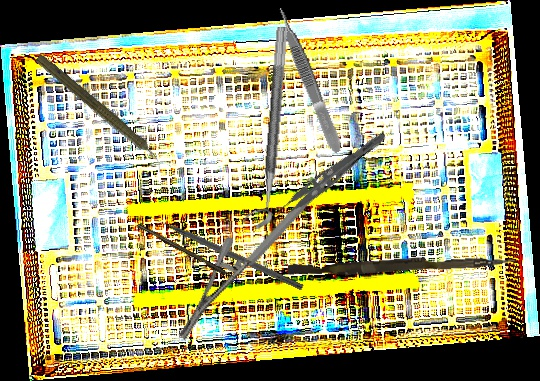Fixation Ring: (242, 25, 289, 230)
Handpiece: (30, 51, 173, 175)
Hook Surgical: (147, 211, 305, 291), (136, 222, 241, 284)
Needle Holder: (142, 165, 375, 343)
Pusher: (287, 249, 515, 281)
Tissue Forceps: (270, 122, 389, 225), (274, 4, 345, 156)
